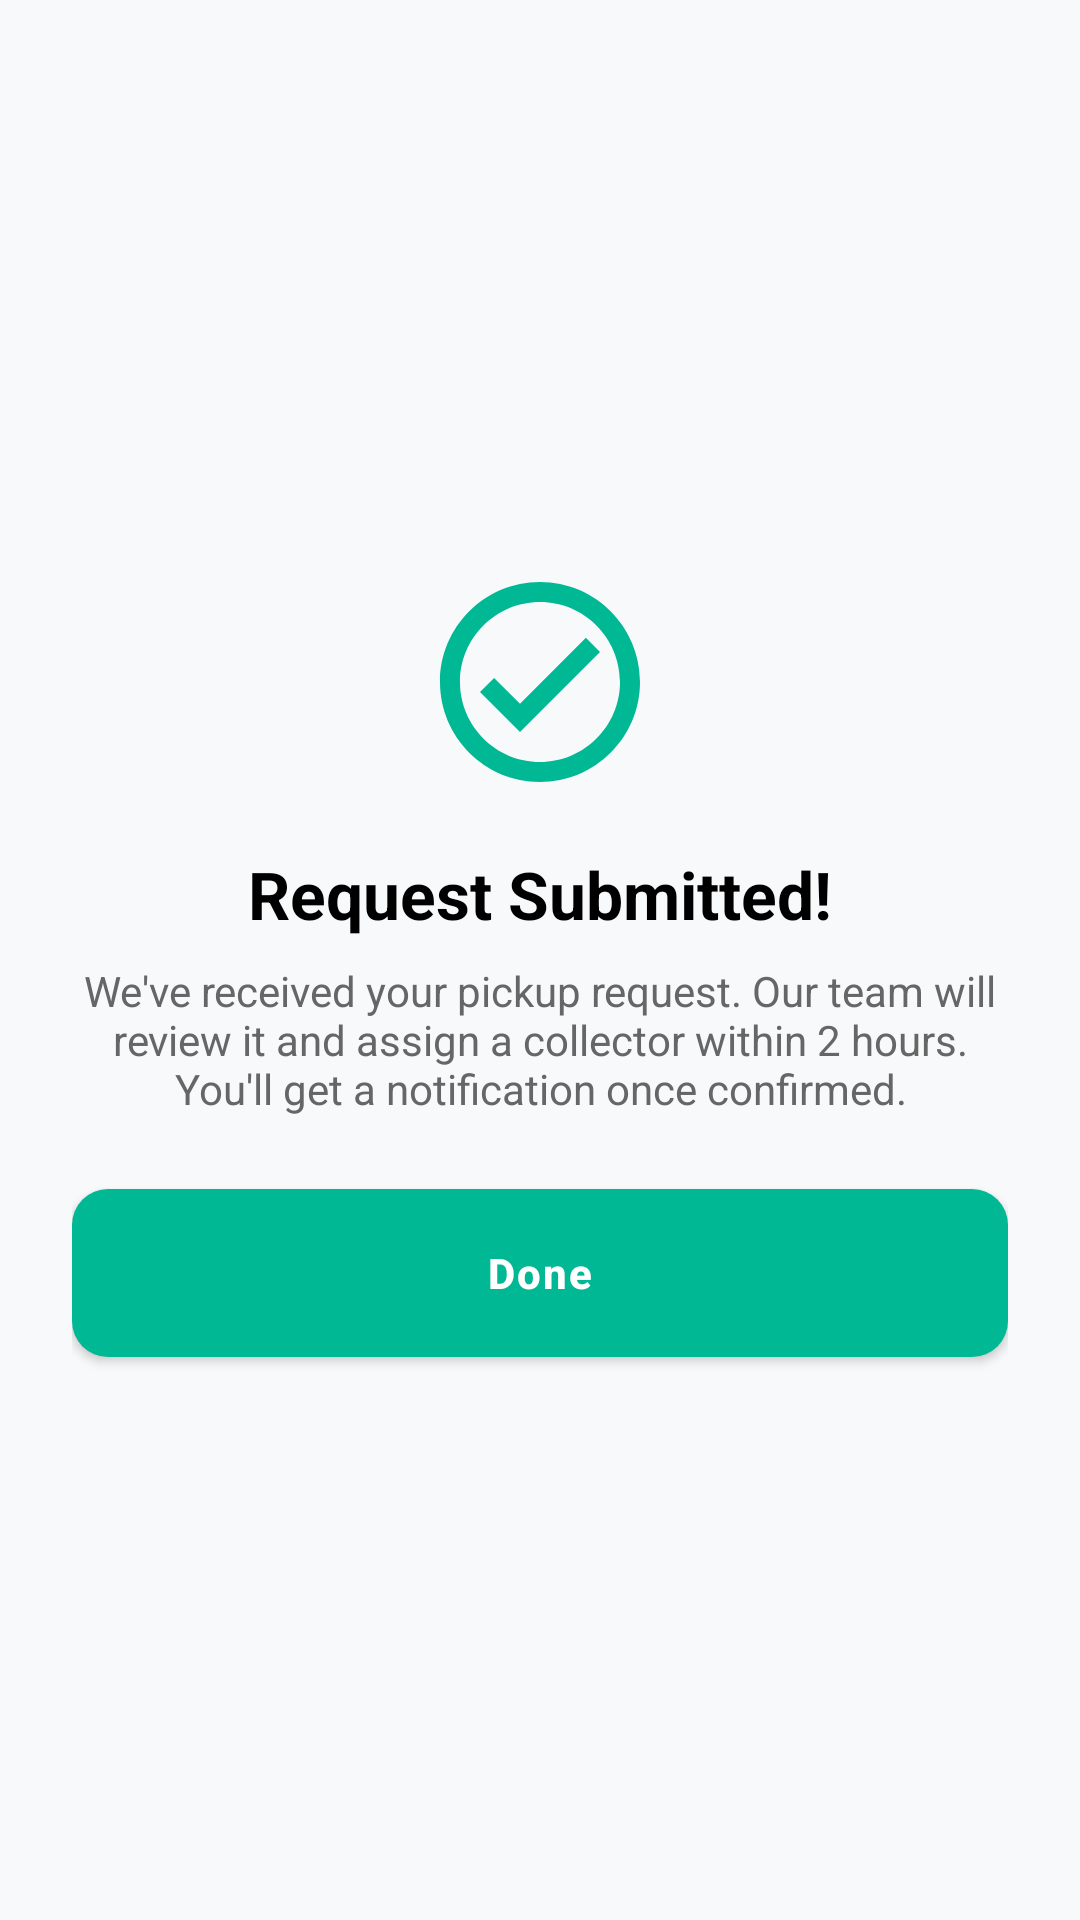

Named icons in this screenshot (1080×1920) and their centers, (x,y):
check circle: (539,682)
